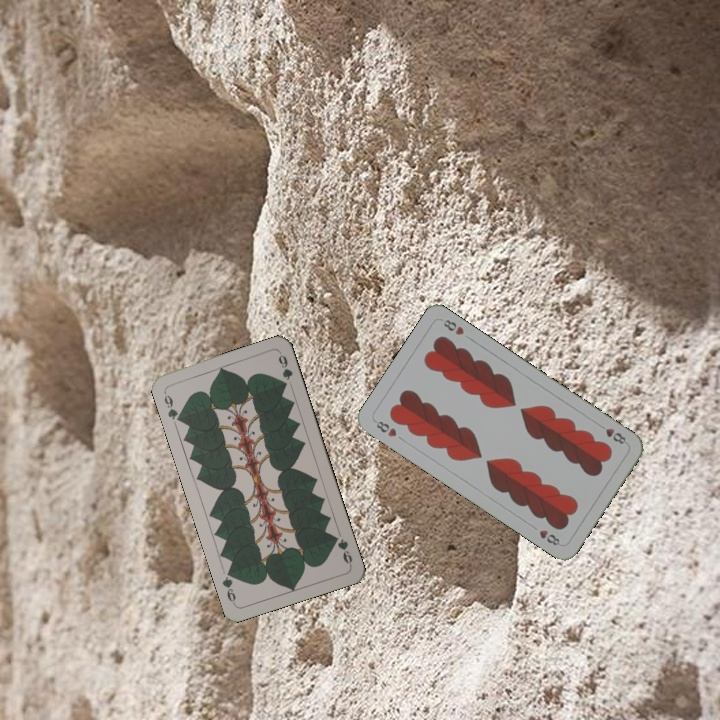G9: (329, 531, 355, 568), (160, 388, 185, 425)
H8: (594, 420, 629, 447), (370, 416, 399, 440)
